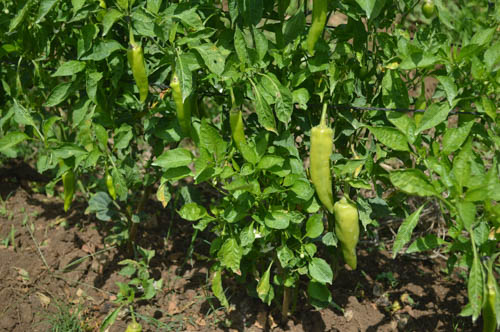ChiliPepper: (310, 125, 335, 213), (335, 200, 362, 266), (168, 79, 194, 131), (129, 44, 148, 107), (226, 110, 247, 146)
